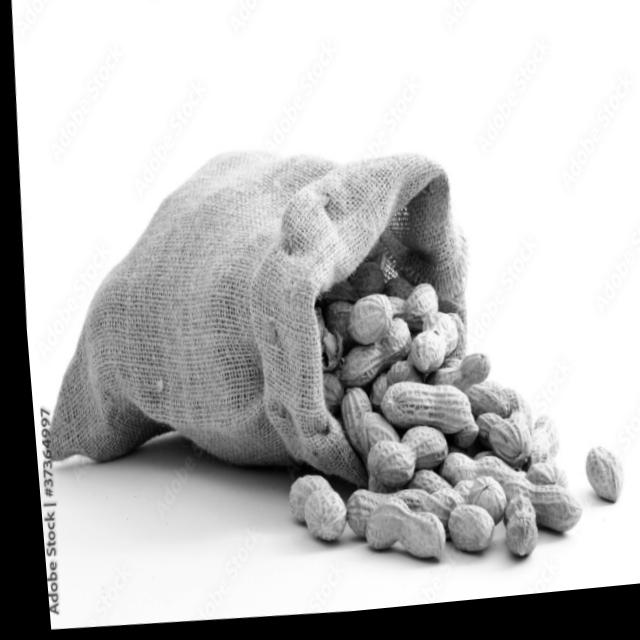sack: (18, 129, 475, 517)
